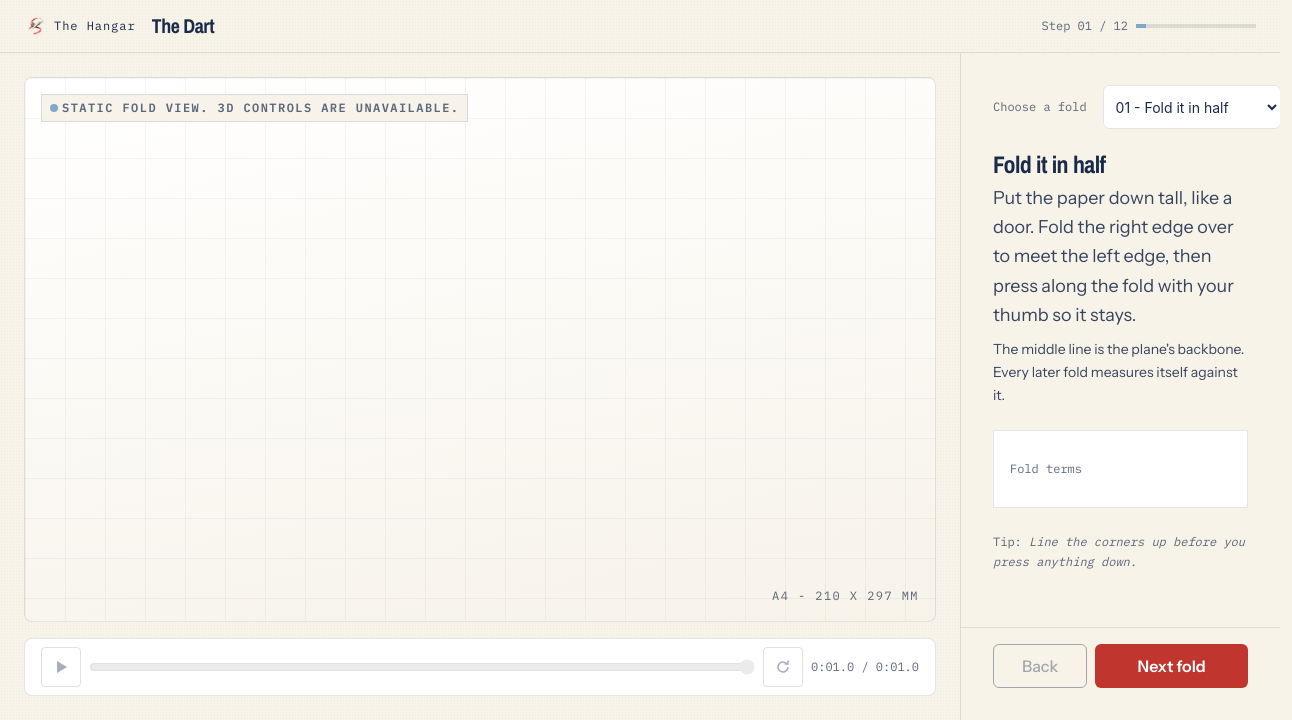
it: guided playback › visibly identifies static fallback and disables controls that cannot animate
Expected: the message reads "Static fold view. 3D controls are unavailable.", [62,100,460,115]
Expected: the button named "Play the fold" is disabled, [41,647,81,687]
Click the button "Next fold" at coordinates (1172, 666), box [1095,644,1248,688]
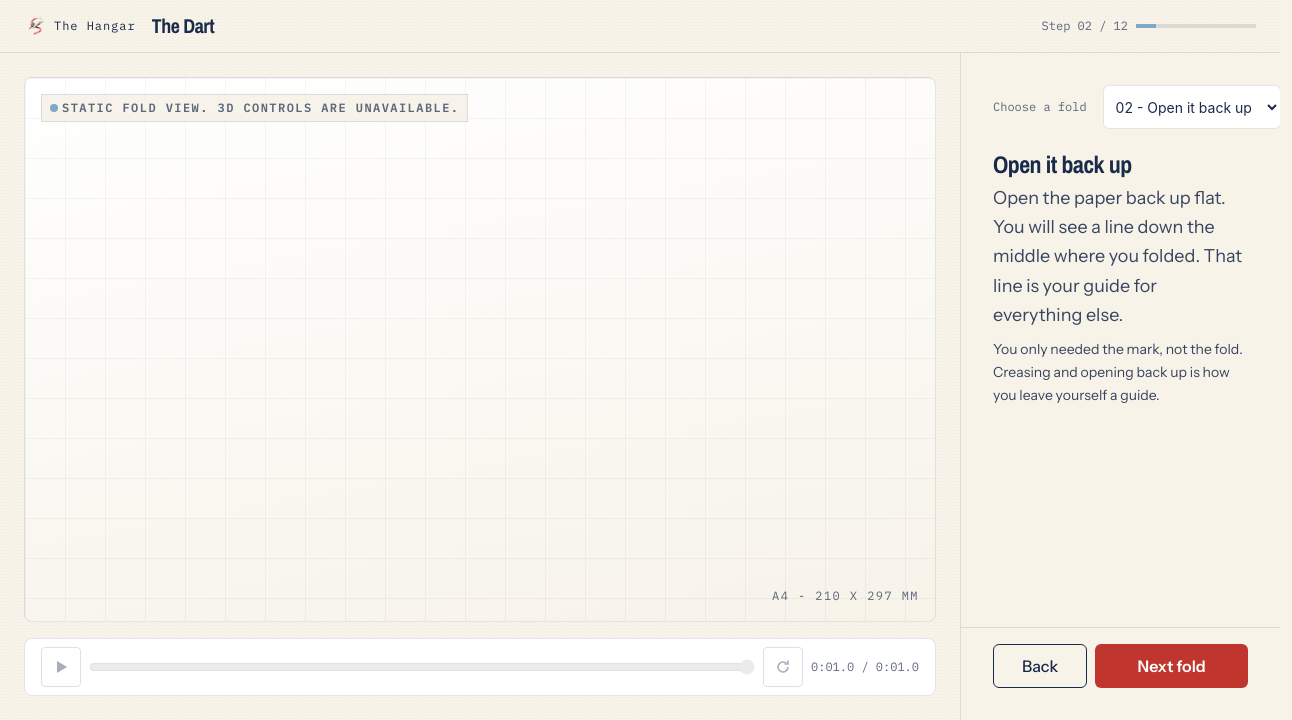
Expected: the message reads "Static fold view. 3D controls are unavailable.", [62,100,460,115]
Now the dropdown labelled "Choose a fold" shows "02 - Open it back up", box [1103,85,1280,129]
